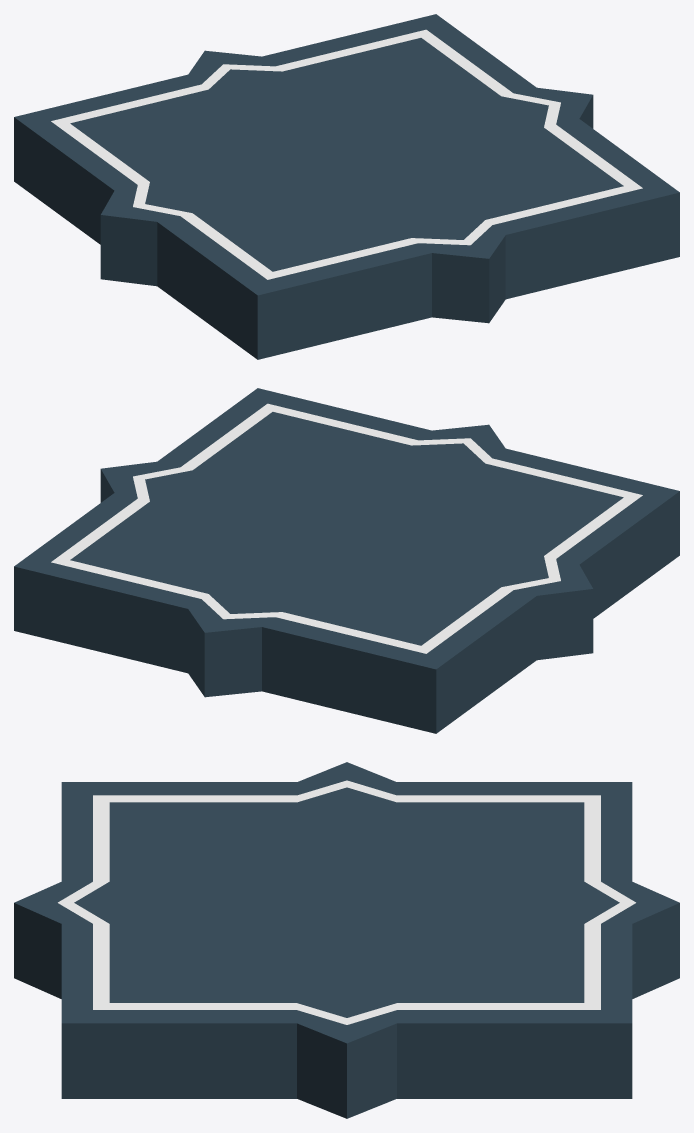
Rendered from Portal_001.fbx.
3 views of the same model, one above another, from view 1: azimuth 30°, elevation 25°; view 2: azimuth 150°, elevation 25°; view 3: azimuth 270°, elevation 25° (orthographic). The views are drawn at different scales.
Parts seen in each view (by area): view 1: Portal.001; view 2: Portal.001; view 3: Portal.001.
Part boxes in pixels (<box>): Portal.001: <box>14,14,679,359</box>; Portal.001: <box>14,388,679,733</box>; Portal.001: <box>14,762,679,1118</box>.
Size of the model in its own units: 80 by 10 by 80.
